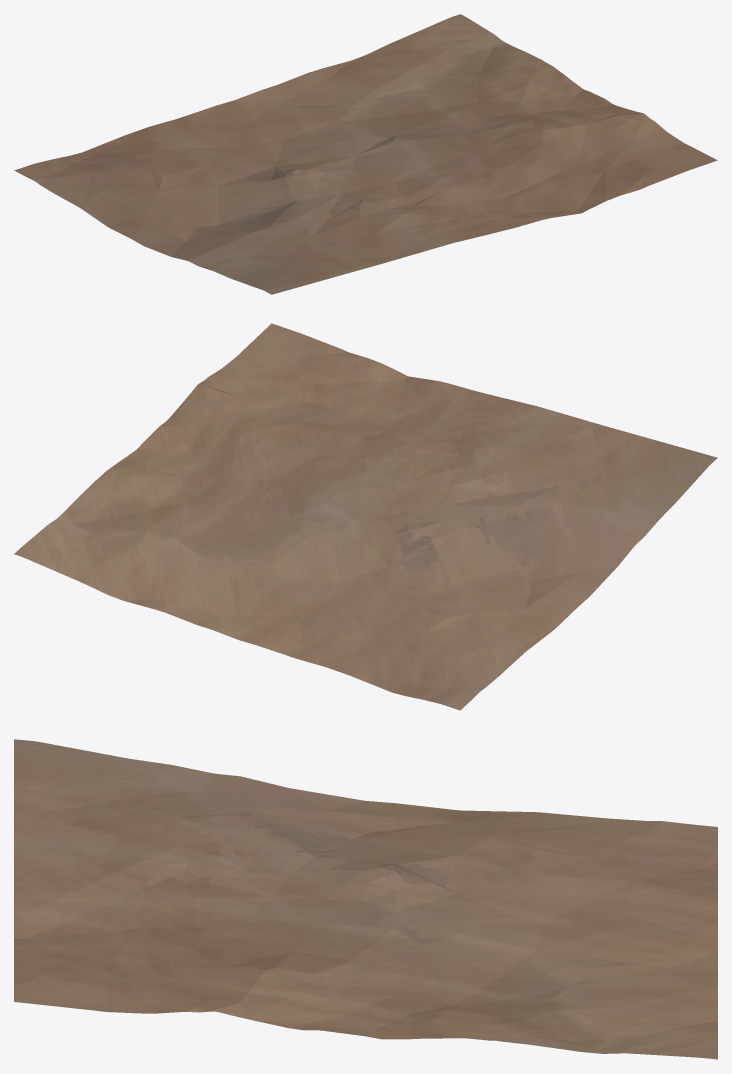
3 views of the same model, one above another, from view 1: azimuth 30°, elevation 25°; view 2: azimuth 150°, elevation 25°; view 3: azimuth 270°, elevation 25° (orthographic). The views are drawn at different scales.
Bounding box in the file's own units: 1.04 × 0.2008 × 1.04.
3 materials, 3 textured.
